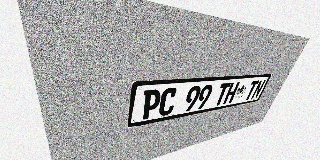9: (182, 85, 202, 112), (195, 84, 214, 110)
C: (157, 87, 178, 117)
H: (223, 82, 240, 104)
N: (250, 80, 266, 99)
P: (141, 89, 162, 120)
T: (213, 83, 231, 106), (243, 80, 260, 100)
